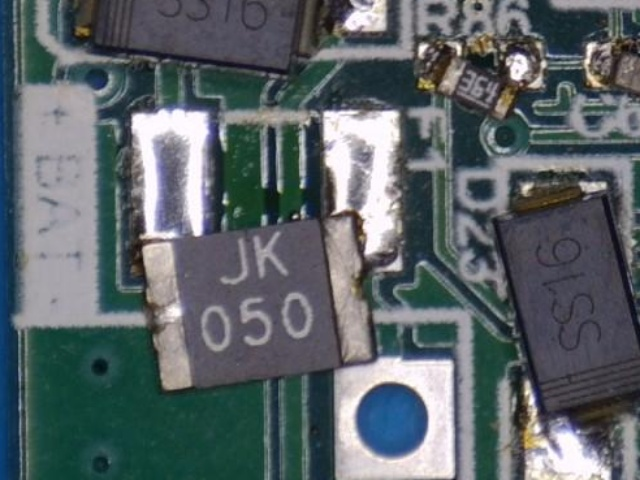pcb_defect: (126, 107, 405, 396), (316, 106, 458, 480), (490, 179, 640, 480), (64, 0, 397, 77), (413, 35, 548, 124), (583, 36, 640, 106)
